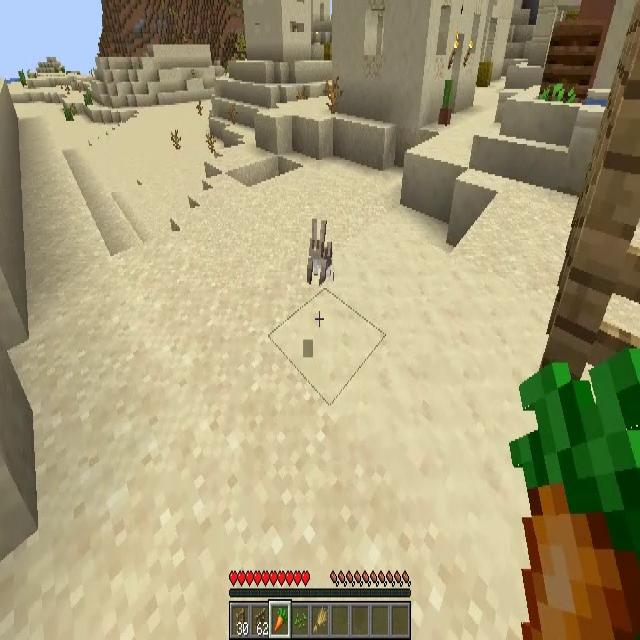rabbit: (307, 216, 333, 286)
